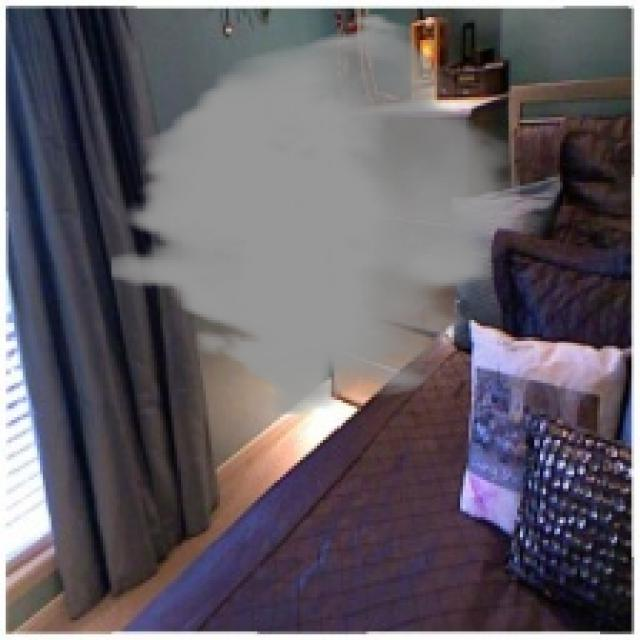smoke: (111, 12, 520, 417)
